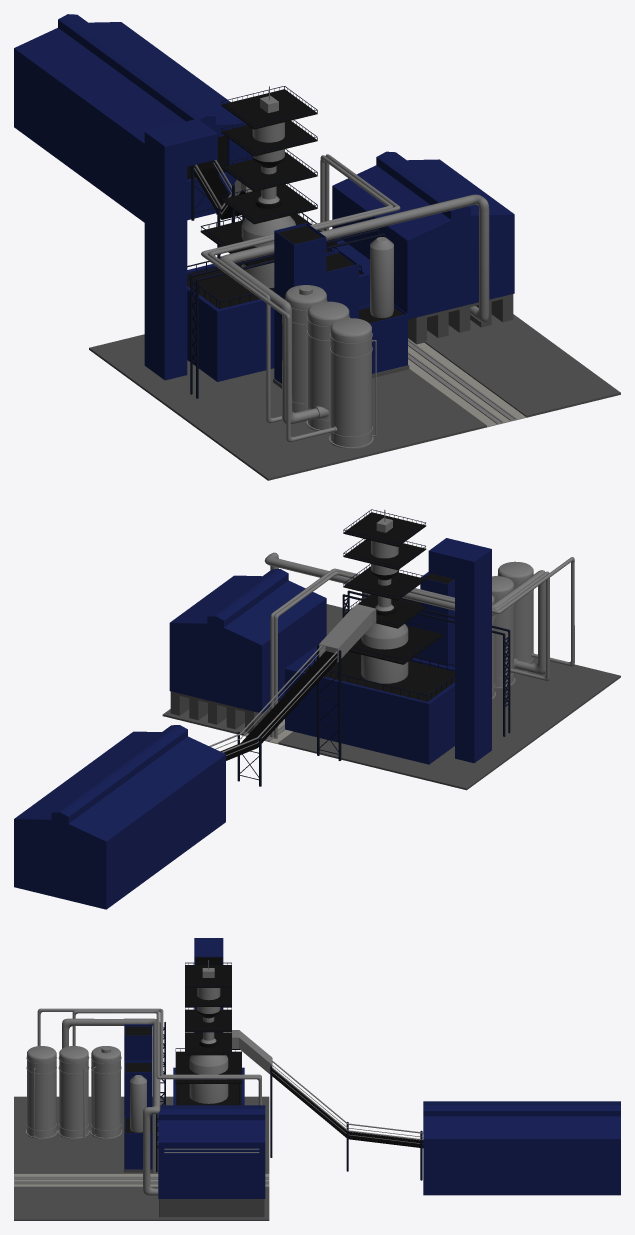
3 renders of one model, top to bottom at view 1: azimuth 30°, elevation 25°; view 2: azimuth 150°, elevation 25°; view 3: azimuth 270°, elevation 25°, orthographic. The views are drawn at different scales.
Visible parts, largest first — view 1: Box002, Box008, Box004, Box007, Box003, Box006, Line007, Cylinder011, Cylinder005, Line005, Cylinder070, Cylinder008 (+15 smaller); view 2: Box008, Box004, Box002, Box006, Box007, Cylinder070, Object011, Line007, Box003, Object014, Line005, Cylinder011 (+10 smaller); view 3: Box008, Box002, Box004, Cylinder008, Cylinder011, Cylinder005, Box003, Line007, Cylinder070, Box005, Object009, Object014 (+14 smaller).
Part boxes in pixels (x1=…): Box002: x1=89, y1=314, x2=620, y2=480; Box008: x1=14, y1=14, x2=252, y2=222; Box004: x1=332, y1=151, x2=514, y2=319; Box007: x1=144, y1=118, x2=217, y2=380; Box003: x1=274, y1=223, x2=407, y2=383; Box006: x1=187, y1=237, x2=369, y2=381; Line007: x1=219, y1=194, x2=489, y2=424; Cylinder011: x1=329, y1=318, x2=373, y2=448; Cylinder005: x1=306, y1=301, x2=349, y2=430; Line005: x1=201, y1=155, x2=393, y2=442; Cylinder070: x1=241, y1=122, x2=295, y2=287; Cylinder008: x1=285, y1=285, x2=327, y2=412; Box008: x1=14, y1=725, x2=225, y2=909; Box004: x1=169, y1=569, x2=326, y2=713; Box002: x1=162, y1=604, x2=620, y2=790; Box006: x1=285, y1=644, x2=454, y2=764; Box007: x1=428, y1=538, x2=491, y2=763; Cylinder070: x1=361, y1=540, x2=408, y2=683; Object011: x1=305, y1=651, x2=454, y2=701; Line007: x1=205, y1=552, x2=545, y2=706; Box003: x1=405, y1=572, x2=454, y2=667; Object014: x1=220, y1=651, x2=337, y2=760; Line005: x1=274, y1=557, x2=574, y2=738; Cylinder011: x1=497, y1=561, x2=534, y2=674; Box008: x1=423, y1=1101, x2=620, y2=1195; Box002: x1=14, y1=1096, x2=269, y2=1220; Box004: x1=158, y1=1105, x2=265, y2=1198; Cylinder008: x1=90, y1=1046, x2=122, y2=1139; Cylinder011: x1=25, y1=1046, x2=57, y2=1139; Cylinder005: x1=58, y1=1046, x2=89, y2=1139; Box003: x1=124, y1=1024, x2=152, y2=1169; Line007: x1=62, y1=1018, x2=160, y2=1195; Cylinder070: x1=189, y1=988, x2=228, y2=1103; Box005: x1=159, y1=1199, x2=264, y2=1217; Object009: x1=14, y1=1173, x2=269, y2=1186; Object014: x1=232, y1=1049, x2=423, y2=1147.
Size of the model in its own units: 320 by 226 by 668.
